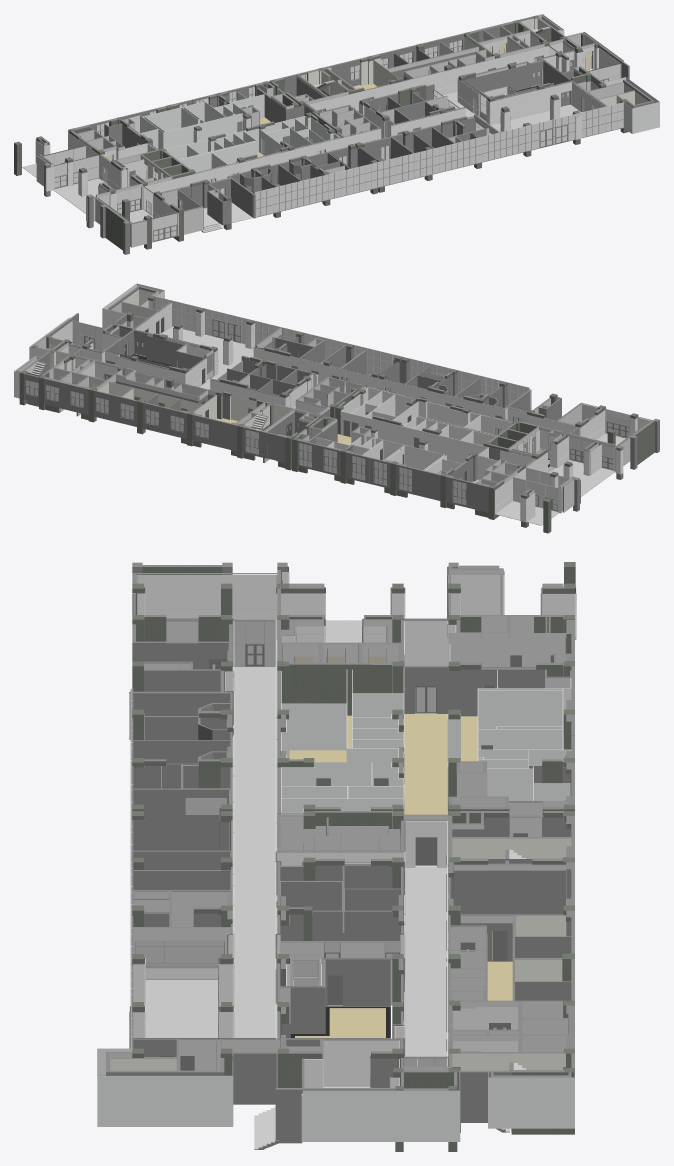
The picture shows the model from 3 angles, top to bottom: view 1: azimuth 30°, elevation 25°; view 2: azimuth 150°, elevation 25°; view 3: azimuth 270°, elevation 25°; orthographic projection. The views are drawn at different scales.
Visible parts, largest first — view 1: Walls, Curtain Panels, Structural Columns, Curtain Wall Mullions, Doors, Floors, Windows, Specialty Equipment; view 2: Walls, Curtain Panels, Structural Columns, Windows, Floors, Doors, Curtain Wall Mullions; view 3: Walls, Floors, Curtain Panels, Structural Columns, Doors, Curtain Wall Mullions, Wall Sweeps, Stairs.
Boxes of the visible parts, x1,y1,x2,y2 form: Walls: [35, 15, 654, 250]; Curtain Panels: [44, 14, 659, 230]; Structural Columns: [14, 15, 628, 254]; Curtain Wall Mullions: [43, 45, 623, 242]; Doors: [54, 51, 608, 241]; Floors: [22, 69, 592, 227]; Windows: [96, 40, 462, 136]; Specialty Equipment: [105, 39, 592, 179]; Walls: [16, 286, 654, 522]; Curtain Panels: [14, 283, 629, 507]; Structural Columns: [19, 295, 659, 533]; Windows: [25, 379, 466, 504]; Floors: [130, 327, 625, 525]; Doors: [58, 317, 629, 511]; Curtain Wall Mullions: [72, 296, 630, 511]; Walls: [106, 565, 576, 1140]; Floors: [145, 620, 563, 1087]; Curtain Panels: [97, 621, 574, 1141]; Structural Columns: [132, 562, 575, 1151]; Doors: [161, 644, 553, 1070]; Curtain Wall Mullions: [130, 574, 502, 1087]; Wall Sweeps: [146, 609, 448, 1056]; Stairs: [254, 849, 526, 1149].
Bounding box in the file's own units: 85.51 × 4.72 × 32.74.
Materials: 24 (6 with a texture image).
